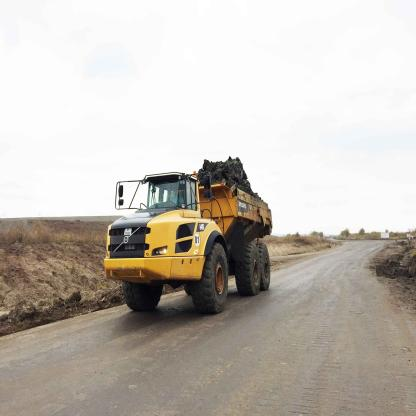dump_truck: (104, 157, 283, 314)
